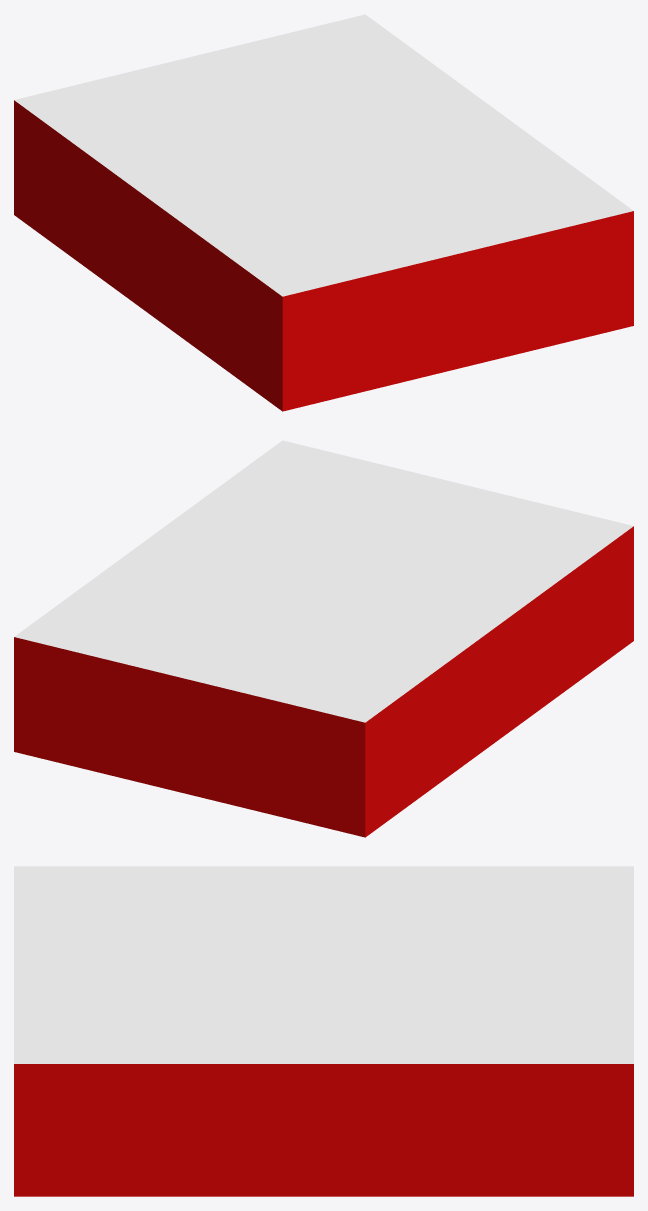
3 renders of one model, top to bottom at view 1: azimuth 30°, elevation 25°; view 2: azimuth 150°, elevation 25°; view 3: azimuth 270°, elevation 25°, orthographic. The views are drawn at different scales.
Visible parts, largest first — view 1: fire lite bg pull station; view 2: fire lite bg pull station; view 3: fire lite bg pull station.
Part boxes in pixels (x1=…): fire lite bg pull station: x1=14, y1=14, x2=633, y2=411; fire lite bg pull station: x1=14, y1=440, x2=633, y2=837; fire lite bg pull station: x1=14, y1=866, x2=633, y2=1196.
Bounding box in the file's own units: 171 × 54.5 × 227.
